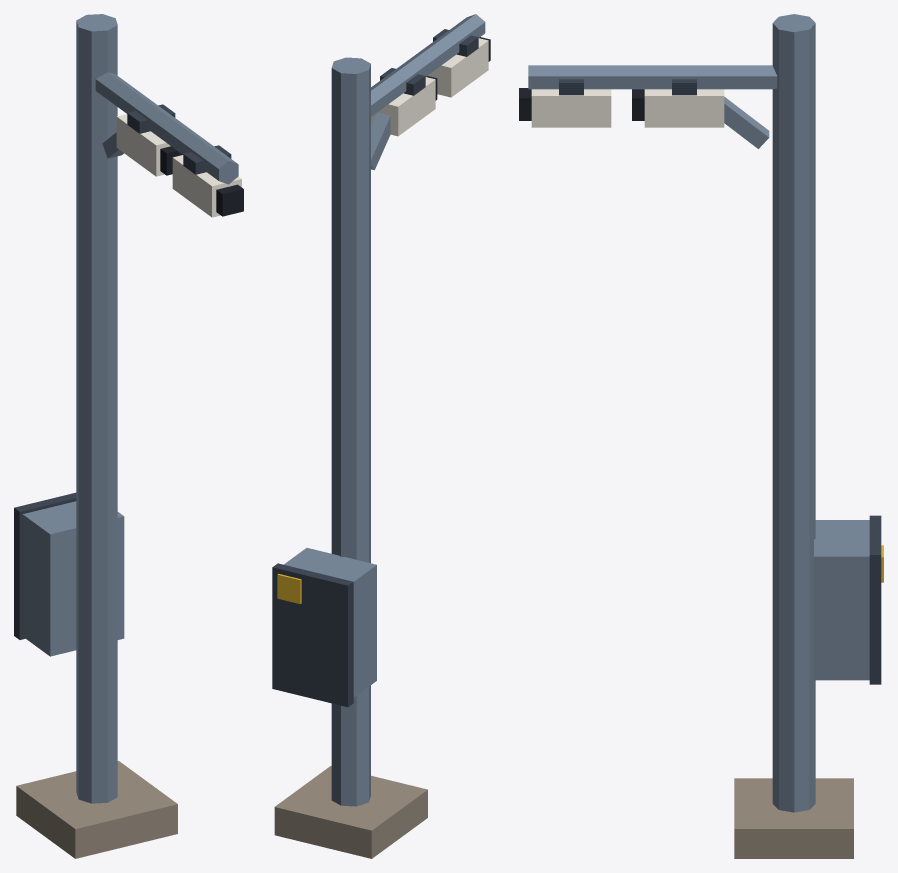
Rendered from cittaTelecamere.glb.
The picture shows the model from 3 angles, left to right: view 1: azimuth 30°, elevation 25°; view 2: azimuth 150°, elevation 25°; view 3: azimuth 270°, elevation 25°; orthographic projection. The views are drawn at different scales.
Visible parts, largest first — view 1: cittaTelecamere_steel, cittaTelecamere_concreteDark, cittaTelecamere_white, cittaTelecamere_steelDark, cittaTelecamere_black; view 2: cittaTelecamere_steel, cittaTelecamere_steelDark, cittaTelecamere_concreteDark, cittaTelecamere_white, cittaTelecamere_yellow; view 3: cittaTelecamere_steel, cittaTelecamere_concreteDark, cittaTelecamere_white, cittaTelecamere_steelDark, cittaTelecamere_black.
Boxes of the visible parts, bbox=[...] form: cittaTelecamere_steel: bbox=[22, 14, 238, 803]; cittaTelecamere_concreteDark: bbox=[16, 761, 177, 858]; cittaTelecamere_white: bbox=[116, 114, 241, 217]; cittaTelecamere_steelDark: bbox=[14, 104, 231, 639]; cittaTelecamere_black: bbox=[160, 146, 243, 216]; cittaTelecamere_steel: bbox=[284, 14, 485, 806]; cittaTelecamere_steelDark: bbox=[272, 29, 478, 707]; cittaTelecamere_concreteDark: bbox=[274, 766, 427, 858]; cittaTelecamere_white: bbox=[371, 38, 488, 136]; cittaTelecamere_yellow: bbox=[277, 573, 301, 603]; cittaTelecamere_steel: bbox=[528, 14, 869, 812]; cittaTelecamere_concreteDark: bbox=[734, 778, 853, 858]; cittaTelecamere_white: bbox=[531, 89, 724, 127]; cittaTelecamere_steelDark: bbox=[559, 79, 881, 684]; cittaTelecamere_black: bbox=[519, 88, 644, 120].
Bounding box in the file's own units: 0.72 × 5.38 × 2.19.
